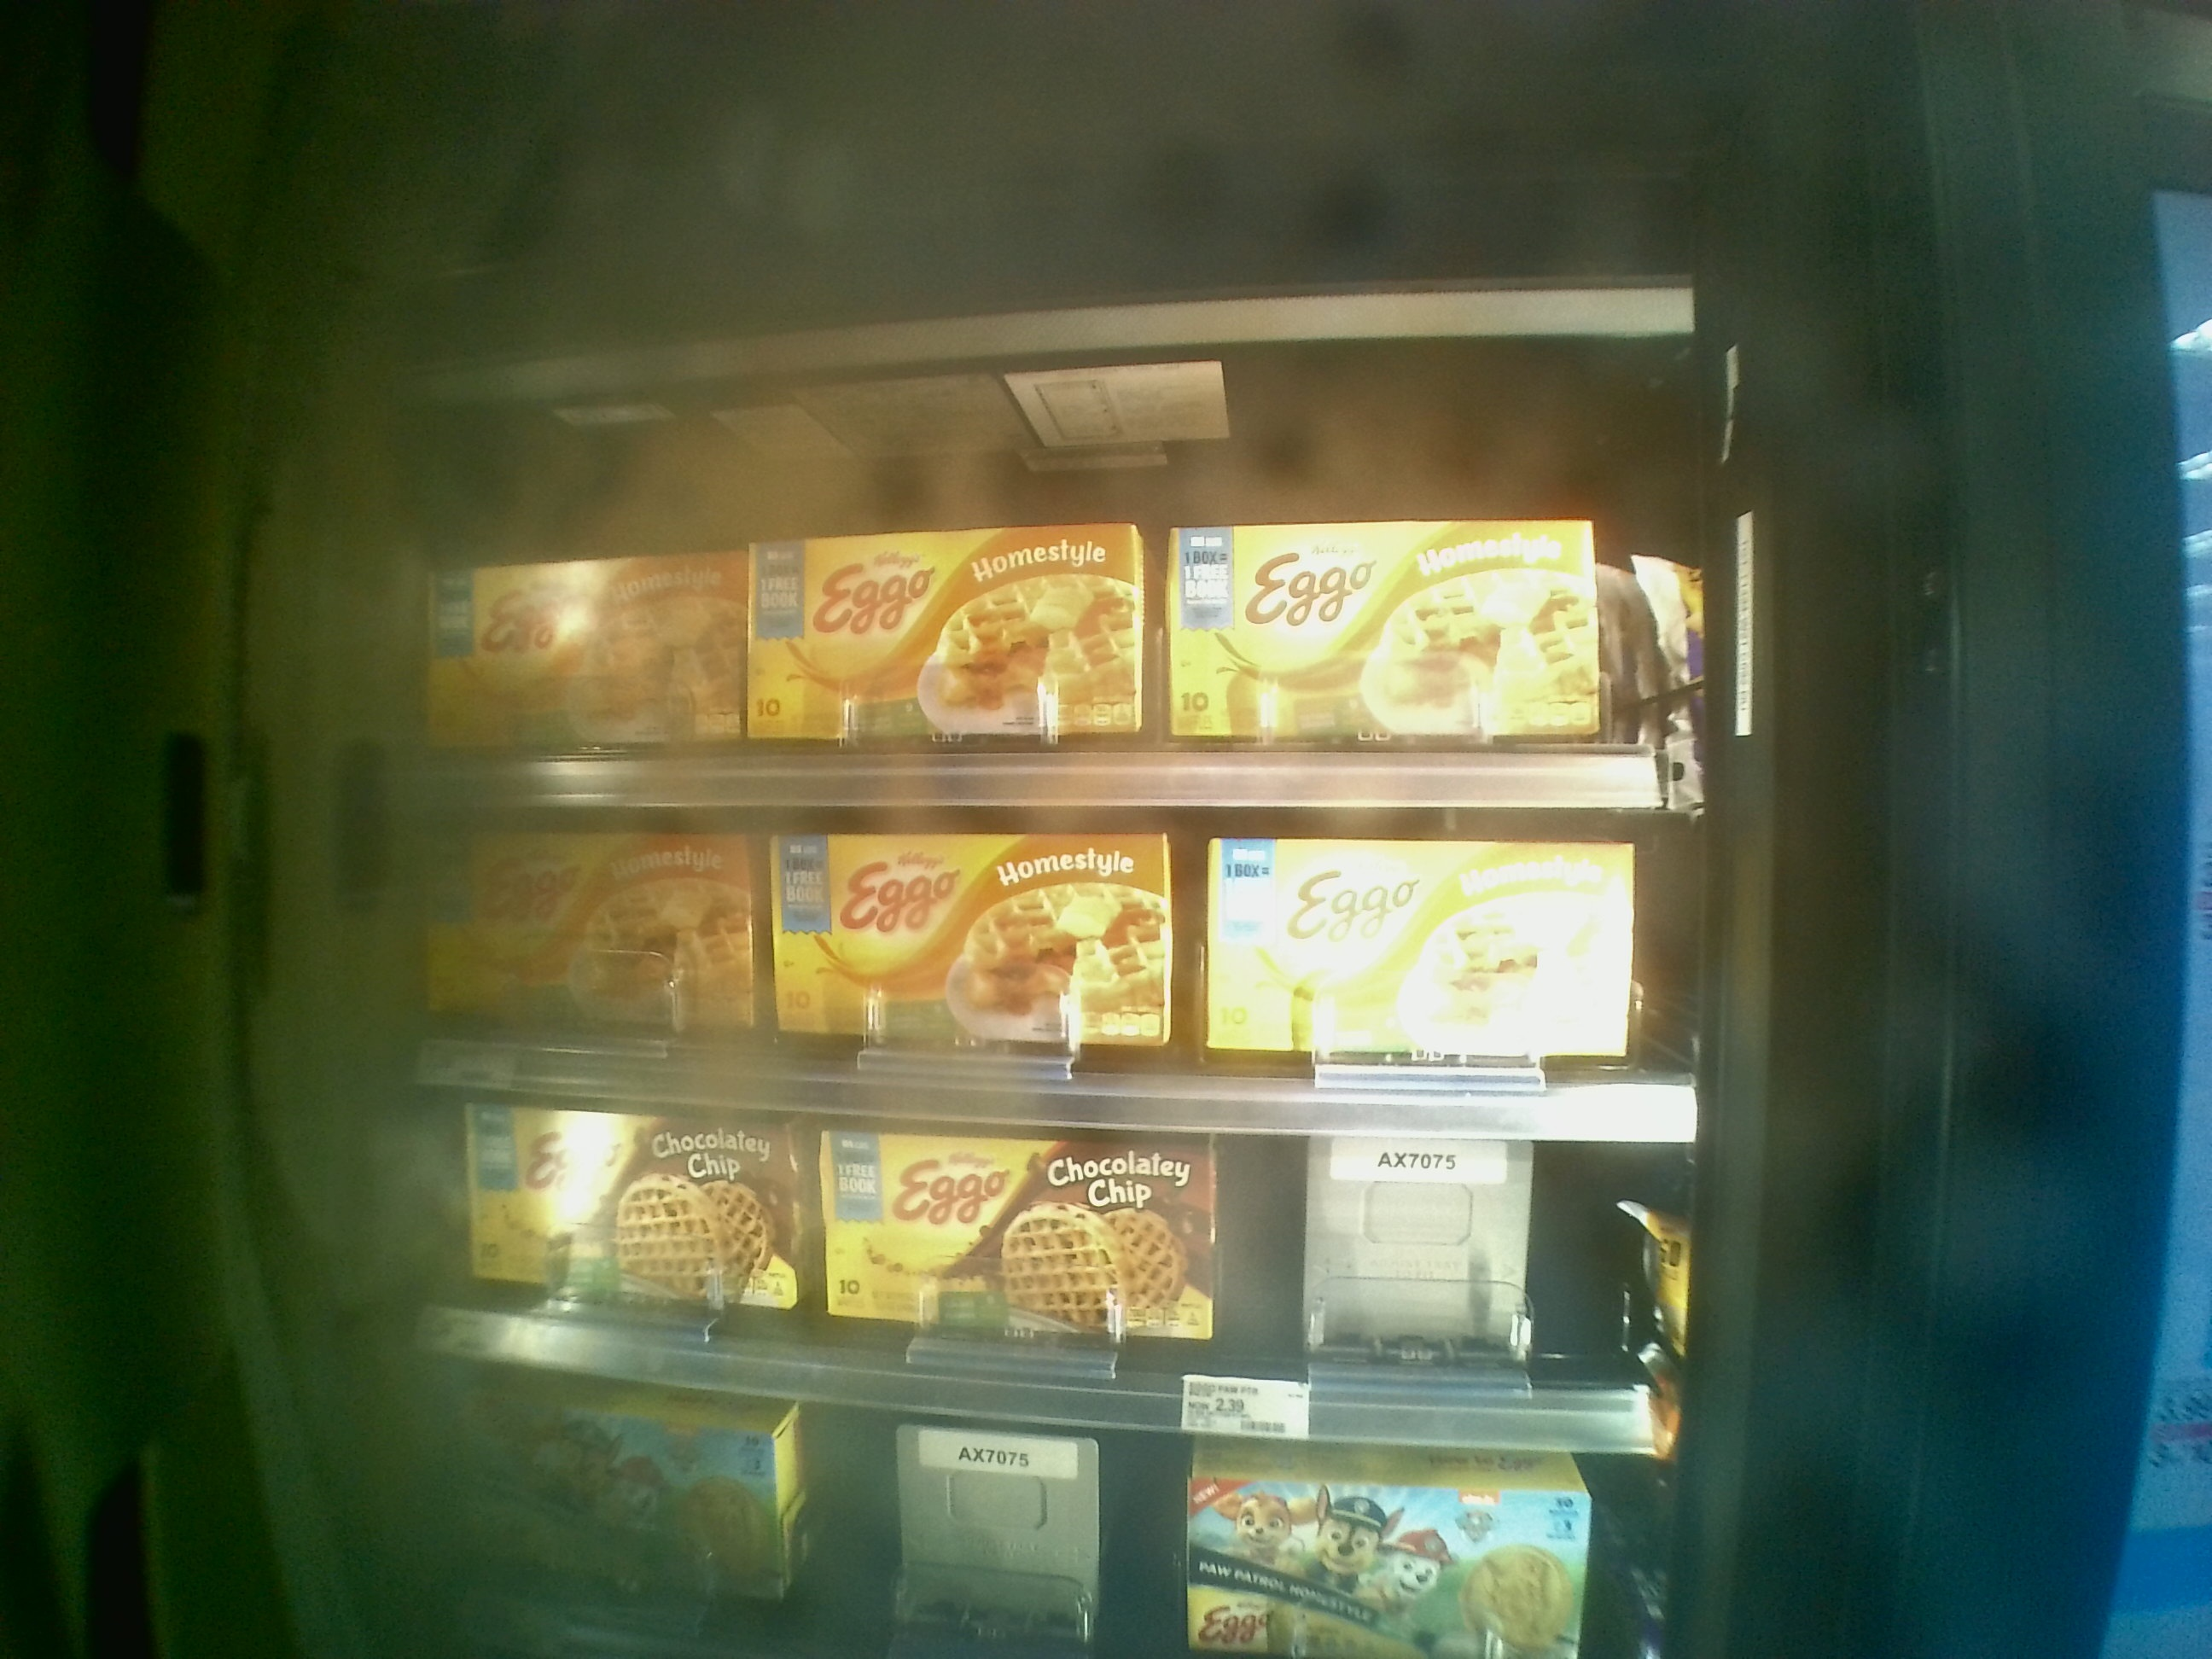shelf: (390, 416, 1679, 817), (411, 784, 1707, 1143)
